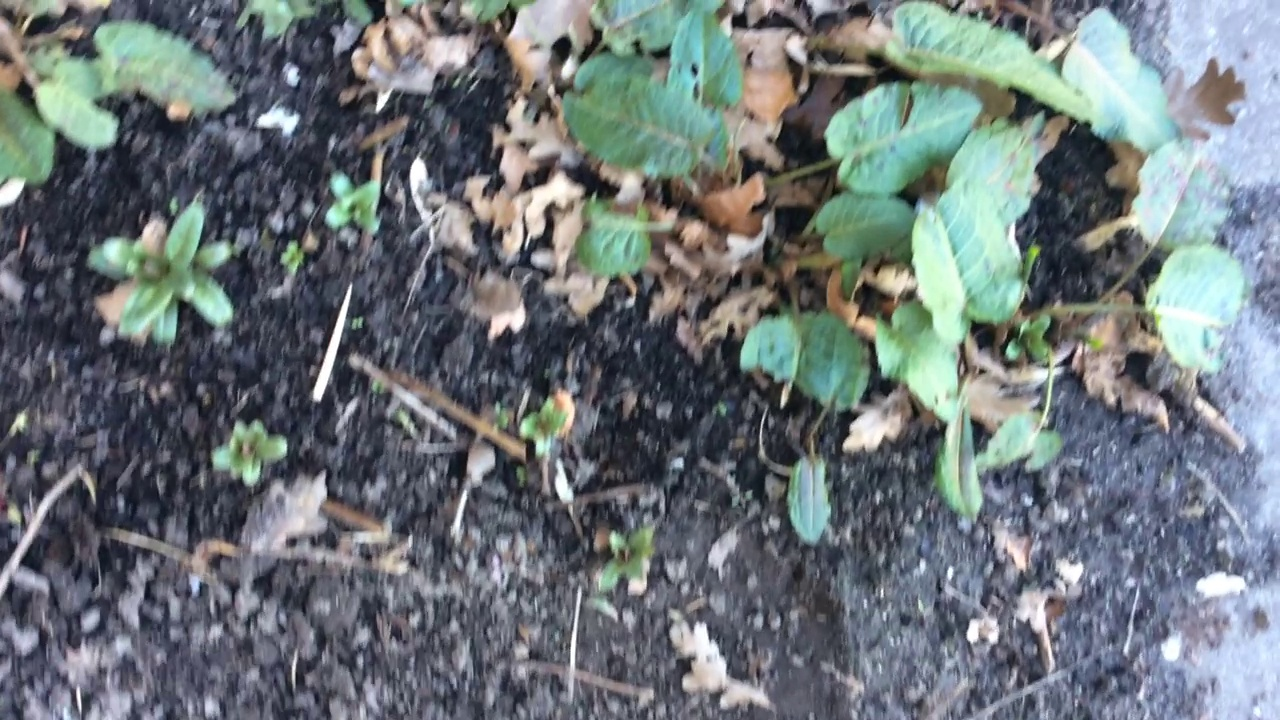rumex: (533, 17, 1262, 527), (1, 22, 248, 189)
